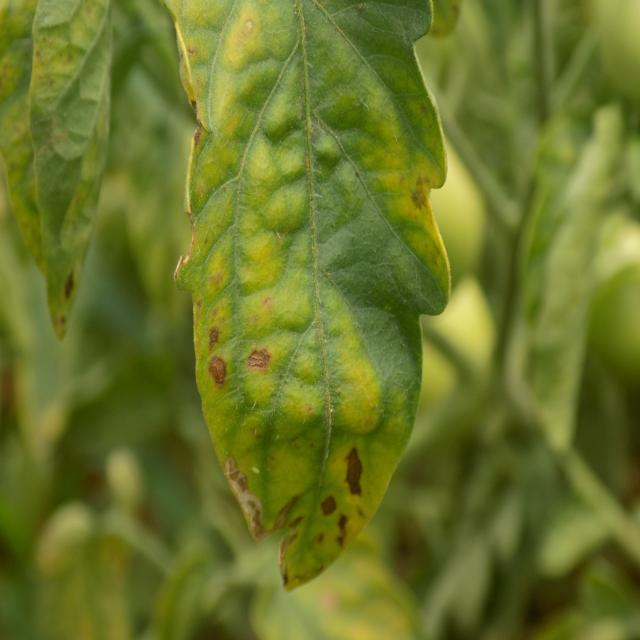tomato_early blight: (158, 0, 468, 598)
